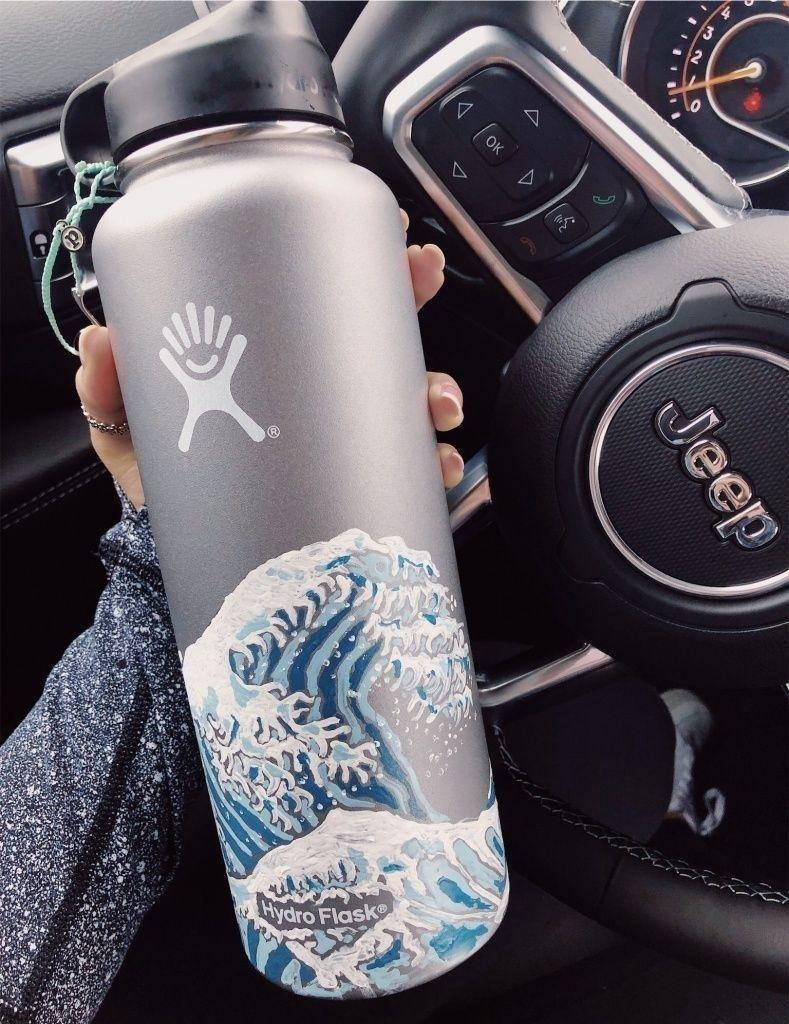gym bottle: (94, 30, 511, 992)
